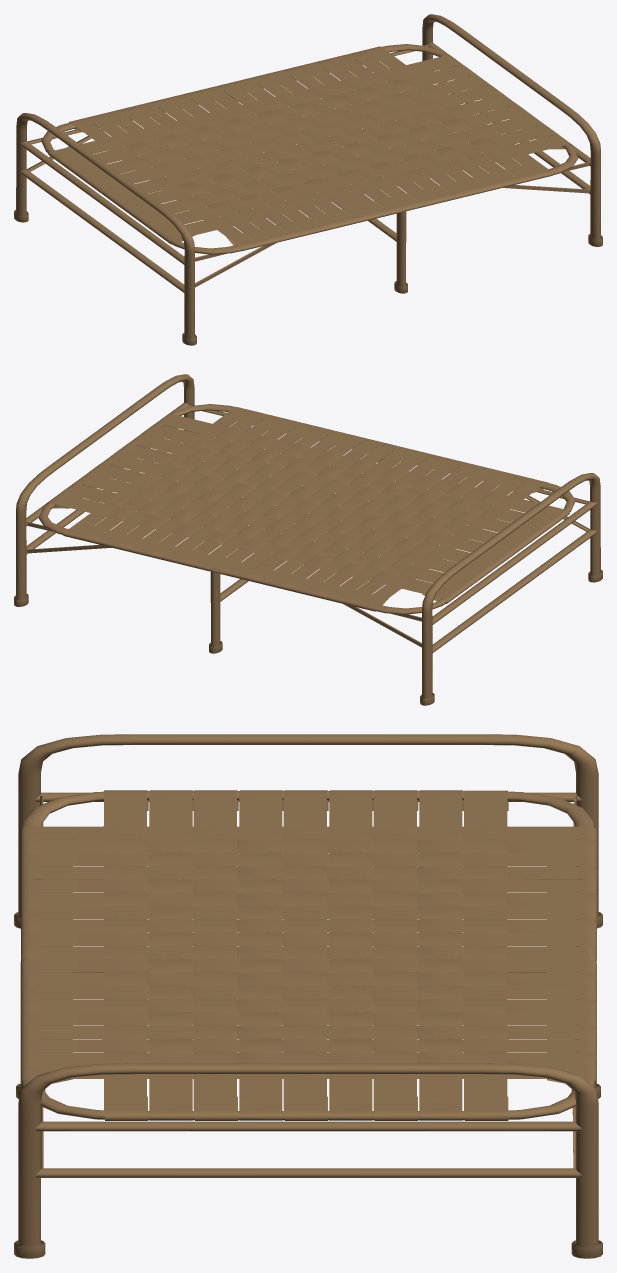
The model's file is three-boy-bed.glb.
3 views of the same model, one above another, from view 1: azimuth 30°, elevation 25°; view 2: azimuth 150°, elevation 25°; view 3: azimuth 270°, elevation 25° (orthographic). The views are drawn at different scales.
Visible parts, largest first — view 1: three-boy-bed; view 2: three-boy-bed; view 3: three-boy-bed.
Part boxes in pixels (box(x1,y1,x2,y2)): three-boy-bed: box(14, 14, 602, 345); three-boy-bed: box(14, 374, 602, 705); three-boy-bed: box(14, 734, 602, 1258).
Bounding box in the file's own units: 1.9 × 0.5 × 1.4.
